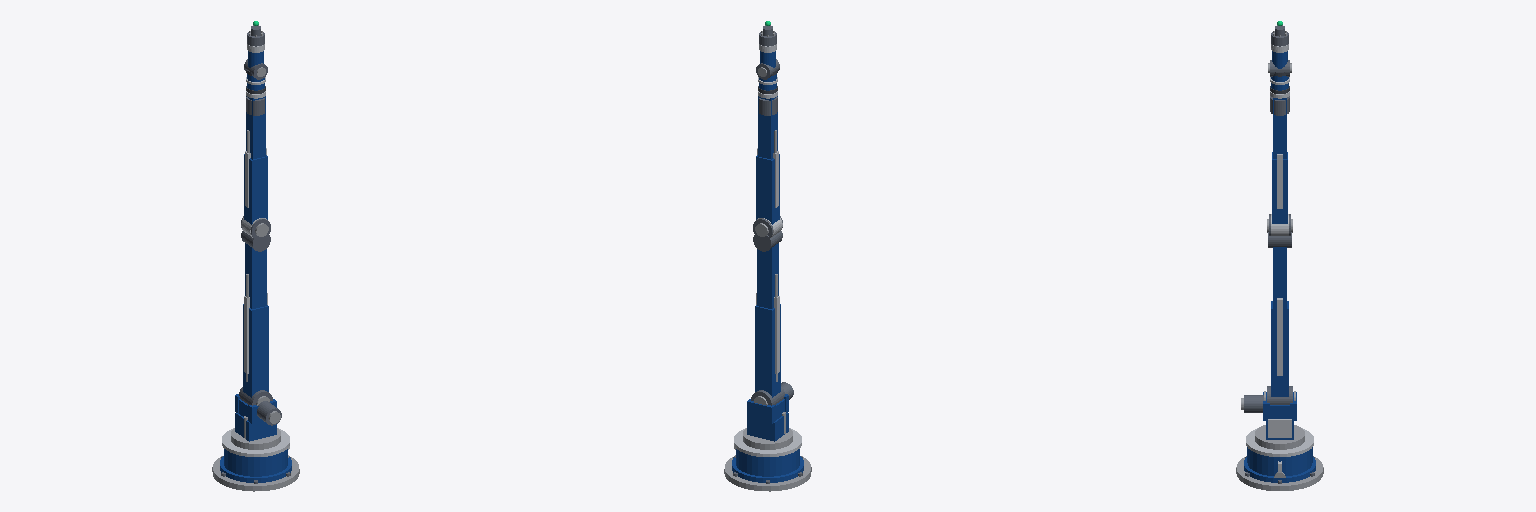
robot.urdf — estun_er6_1450:
<?xml version="1.0" encoding="utf-8"?>
<robot name="estun_er6_1450">
  <!-- ESTUN ER6-1450 — procedurally generated by orolp.robot_library.urdf_builder (payload 6 kg, reach 1450 mm, 6 DOF, repeatability ±0.05 mm). Appearance: 60 primitives in 'industrial' style (primary/accent/metal/dark 4-role palette). No vendor CAD assets. Parameters verified=False. -->
  <link name="base_link">
    <visual>
      <origin xyz="0 0 0.01044" rpy="0 0 0"/>
      <geometry>
        <cylinder radius="0.152914" length="0.02088"/>
      </geometry>
      <material name="base_link_mat_0">
        <color rgba="0.6375 0.6545 0.68 1"/>
      </material>
    </visual>
    <visual>
      <origin xyz="0 0 0.030015" rpy="0 0 0"/>
      <geometry>
        <cylinder radius="0.127809" length="0.01827"/>
      </geometry>
      <material name="base_link_mat_1">
        <color rgba="0.13 0.35 0.62 1"/>
      </material>
    </visual>
    <visual>
      <origin xyz="0 0 0.079605" rpy="0 0 0"/>
      <geometry>
        <cylinder radius="0.114115" length="0.08091"/>
      </geometry>
      <material name="base_link_mat_2">
        <color rgba="0.13 0.35 0.62 1"/>
      </material>
    </visual>
    <visual>
      <origin xyz="0 0 0.123975" rpy="0 0 0"/>
      <geometry>
        <cylinder radius="0.120962" length="0.01305"/>
      </geometry>
      <material name="base_link_mat_3">
        <color rgba="0.75 0.77 0.8 1"/>
      </material>
    </visual>
    <visual>
      <origin xyz="0.102703 0 0.08091" rpy="0 0 0"/>
      <geometry>
        <box size="0.05934 0.013694 0.03393"/>
      </geometry>
      <material name="base_link_mat_4">
        <color rgba="0.75 0.77 0.8 1"/>
      </material>
    </visual>
    <visual>
      <origin xyz="0.104986 0 0.03915" rpy="0 1.570796 0"/>
      <geometry>
        <cylinder radius="0.0194" length="0.034234"/>
      </geometry>
      <material name="base_link_mat_5">
        <color rgba="0.6375 0.6545 0.68 1"/>
      </material>
    </visual>
    <visual>
      <origin xyz="0.130091 0 0.016965" rpy="0 0 0"/>
      <geometry>
        <cylinder radius="0.008559" length="0.02871"/>
      </geometry>
      <material name="base_link_mat_6">
        <color rgba="0.42 0.45 0.5 1"/>
      </material>
    </visual>
    <visual>
      <origin xyz="0.065046 0.112662 0.016965" rpy="0 0 0"/>
      <geometry>
        <cylinder radius="0.008559" length="0.02871"/>
      </geometry>
      <material name="base_link_mat_7">
        <color rgba="0.42 0.45 0.5 1"/>
      </material>
    </visual>
    <visual>
      <origin xyz="-0.065046 0.112662 0.016965" rpy="0 0 0"/>
      <geometry>
        <cylinder radius="0.008559" length="0.02871"/>
      </geometry>
      <material name="base_link_mat_8">
        <color rgba="0.42 0.45 0.5 1"/>
      </material>
    </visual>
    <visual>
      <origin xyz="-0.130091 0 0.016965" rpy="0 0 0"/>
      <geometry>
        <cylinder radius="0.008559" length="0.02871"/>
      </geometry>
      <material name="base_link_mat_9">
        <color rgba="0.42 0.45 0.5 1"/>
      </material>
    </visual>
    <visual>
      <origin xyz="-0.065046 -0.112662 0.016965" rpy="0 0 0"/>
      <geometry>
        <cylinder radius="0.008559" length="0.02871"/>
      </geometry>
      <material name="base_link_mat_10">
        <color rgba="0.42 0.45 0.5 1"/>
      </material>
    </visual>
    <visual>
      <origin xyz="0.065046 -0.112662 0.016965" rpy="0 0 0"/>
      <geometry>
        <cylinder radius="0.008559" length="0.02871"/>
      </geometry>
      <material name="base_link_mat_11">
        <color rgba="0.42 0.45 0.5 1"/>
      </material>
    </visual>
    <collision>
      <origin xyz="0 0 0.06525" rpy="0 0 0"/>
      <geometry>
        <cylinder radius="0.114115" length="0.1305"/>
      </geometry>
    </collision>
  </link>
  <joint name="joint_1" type="revolute">
    <parent link="base_link"/>
    <child link="link_1"/>
    <origin xyz="0 0 0.1305" rpy="0 0 0"/>
    <axis xyz="0 0 1"/>
    <limit lower="-3.141593" upper="3.141593" effort="76" velocity="3.228859"/>
  </joint>
  <link name="link_1">
    <visual>
      <origin xyz="0 0 0.01178" rpy="0 0 0"/>
      <geometry>
        <cylinder radius="0.088347" length="0.023559"/>
      </geometry>
      <material name="link_1_mat_0">
        <color rgba="0.6375 0.6545 0.68 1"/>
      </material>
    </visual>
    <visual>
      <origin xyz="0 0 0.060244" rpy="0 0 0"/>
      <geometry>
        <box size="0.111906 0.095709 0.07337"/>
      </geometry>
      <material name="link_1_mat_1">
        <color rgba="0.13 0.35 0.62 1"/>
      </material>
    </visual>
    <visual>
      <origin xyz="0 0 0.124044" rpy="0 0 0"/>
      <geometry>
        <box size="0.098654 0.082457 0.05423"/>
      </geometry>
      <material name="link_1_mat_2">
        <color rgba="0.13 0.35 0.62 1"/>
      </material>
    </visual>
    <visual>
      <origin xyz="0 0.048591 0.1276" rpy="0 0 0"/>
      <geometry>
        <box size="0.103072 0.025032 0.0638"/>
      </geometry>
      <material name="link_1_mat_3">
        <color rgba="0.13 0.35 0.62 1"/>
      </material>
    </visual>
    <visual>
      <origin xyz="0 -0.048591 0.1276" rpy="0 0 0"/>
      <geometry>
        <box size="0.103072 0.025032 0.0638"/>
      </geometry>
      <material name="link_1_mat_4">
        <color rgba="0.13 0.35 0.62 1"/>
      </material>
    </visual>
    <visual>
      <origin xyz="0 -0.086875 0.13717" rpy="1.570796 0 0"/>
      <geometry>
        <cylinder radius="0.032394" length="0.077304"/>
      </geometry>
      <material name="link_1_mat_5">
        <color rgba="0.42 0.45 0.5 1"/>
      </material>
    </visual>
    <visual>
      <origin xyz="0 -0.129576 0.13717" rpy="1.570796 0 0"/>
      <geometry>
        <cylinder radius="0.022087" length="0.01178"/>
      </geometry>
      <material name="link_1_mat_6">
        <color rgba="0.6375 0.6545 0.68 1"/>
      </material>
    </visual>
    <visual>
      <origin xyz="-0.051536 -0.020614 0.06699" rpy="0 0 0"/>
      <geometry>
        <cylinder radius="0.008098" length="0.07975"/>
      </geometry>
      <material name="link_1_mat_7">
        <color rgba="0.6375 0.6545 0.68 1"/>
      </material>
    </visual>
    <visual>
      <origin xyz="0.053008 0 0.06699" rpy="0 0 0"/>
      <geometry>
        <box size="0.007362 0.085402 0.07018"/>
      </geometry>
      <material name="link_1_mat_8">
        <color rgba="0.75 0.77 0.8 1"/>
      </material>
    </visual>
    <collision>
      <origin xyz="0 0 0.07975" rpy="0 0 0"/>
      <geometry>
        <cylinder radius="0.088347" length="0.1595"/>
      </geometry>
    </collision>
  </link>
  <joint name="joint_2" type="revolute">
    <parent link="link_1"/>
    <child link="link_2"/>
    <origin xyz="0 0 0.1595" rpy="0 0 0"/>
    <axis xyz="0 1 0"/>
    <limit lower="-2.70526" upper="0.610865" effort="76" velocity="3.228859"/>
  </joint>
  <link name="link_2">
    <visual>
      <origin xyz="0 0 0.18009" rpy="0 0 0"/>
      <geometry>
        <box size="0.07215 0.061843 0.36018"/>
      </geometry>
      <material name="link_2_mat_0">
        <color rgba="0.13 0.35 0.62 1"/>
      </material>
    </visual>
    <visual>
      <origin xyz="0 0 0.50025" rpy="0 0 0"/>
      <geometry>
        <box size="0.058898 0.050063 0.3335"/>
      </geometry>
      <material name="link_2_mat_1">
        <color rgba="0.13 0.35 0.62 1"/>
      </material>
    </visual>
    <visual>
      <origin xyz="0 0 0.25346" rpy="0 0 0"/>
      <geometry>
        <box size="0.085402 0.022087 0.29348"/>
      </geometry>
      <material name="link_2_mat_2">
        <color rgba="0.75 0.77 0.8 1"/>
      </material>
    </visual>
    <visual>
      <origin xyz="0 0 0" rpy="1.570796 0 0"/>
      <geometry>
        <cylinder radius="0.042701" length="0.094237"/>
      </geometry>
      <material name="link_2_mat_3">
        <color rgba="0.42 0.45 0.5 1"/>
      </material>
    </visual>
    <visual>
      <origin xyz="0 0.051536 0" rpy="1.570796 0 0"/>
      <geometry>
        <cylinder radius="0.026504" length="0.007362"/>
      </geometry>
      <material name="link_2_mat_4">
        <color rgba="0.6375 0.6545 0.68 1"/>
      </material>
    </visual>
    <visual>
      <origin xyz="0 -0.051536 0" rpy="1.570796 0 0"/>
      <geometry>
        <cylinder radius="0.026504" length="0.007362"/>
      </geometry>
      <material name="link_2_mat_5">
        <color rgba="0.6375 0.6545 0.68 1"/>
      </material>
    </visual>
    <visual>
      <origin xyz="0 0 -0.048024" rpy="0 0 0"/>
      <geometry>
        <box size="0.079512 0.06626 0.10005"/>
      </geometry>
      <material name="link_2_mat_6">
        <color rgba="0.6375 0.6545 0.68 1"/>
      </material>
    </visual>
    <visual>
      <origin xyz="0 0 -0.101384" rpy="0 0 0"/>
      <geometry>
        <cylinder radius="0.042701" length="0.02668"/>
      </geometry>
      <material name="link_2_mat_7">
        <color rgba="0.6375 0.6545 0.68 1"/>
      </material>
    </visual>
    <visual>
      <origin xyz="0 0 0.62031" rpy="1.570796 0 0"/>
      <geometry>
        <cylinder radius="0.036811" length="0.080985"/>
      </geometry>
      <material name="link_2_mat_8">
        <color rgba="0.42 0.45 0.5 1"/>
      </material>
    </visual>
    <visual>
      <origin xyz="0 0 0.667" rpy="1.570796 0 0"/>
      <geometry>
        <cylinder radius="0.041229" length="0.063315"/>
      </geometry>
      <material name="link_2_mat_9">
        <color rgba="0.75 0.77 0.8 1"/>
      </material>
    </visual>
    <visual>
      <origin xyz="-0.033866 0 0.28014" rpy="0 0 0"/>
      <geometry>
        <cylinder radius="0.006626" length="0.41354"/>
      </geometry>
      <material name="link_2_mat_10">
        <color rgba="0.6375 0.6545 0.68 1"/>
      </material>
    </visual>
    <collision>
      <origin xyz="0 0 0.3335" rpy="0 0 0"/>
      <geometry>
        <box size="0.073623 0.060371 0.667"/>
      </geometry>
    </collision>
  </link>
  <joint name="joint_3" type="revolute">
    <parent link="link_2"/>
    <child link="link_3"/>
    <origin xyz="0 0 0.667" rpy="0 0 0"/>
    <axis xyz="0 1 0"/>
    <limit lower="-2.268928" upper="2.687807" effort="76" velocity="3.228859"/>
  </joint>
  <link name="link_3">
    <visual>
      <origin xyz="0 0 0.13572" rpy="0 0 0"/>
      <geometry>
        <box size="0.067733 0.057426 0.27144"/>
      </geometry>
      <material name="link_3_mat_0">
        <color rgba="0.13 0.35 0.62 1"/>
      </material>
    </visual>
    <visual>
      <origin xyz="0 0 0.38628" rpy="0 0 0"/>
      <geometry>
        <box size="0.054481 0.045646 0.27144"/>
      </geometry>
      <material name="link_3_mat_1">
        <color rgba="0.13 0.35 0.62 1"/>
      </material>
    </visual>
    <visual>
      <origin xyz="0 0 0" rpy="1.570796 0 0"/>
      <geometry>
        <cylinder radius="0.039756" length="0.07804"/>
      </geometry>
      <material name="link_3_mat_2">
        <color rgba="0.42 0.45 0.5 1"/>
      </material>
    </visual>
    <visual>
      <origin xyz="0 0.042701 0" rpy="1.570796 0 0"/>
      <geometry>
        <cylinder radius="0.025032" length="0.007362"/>
      </geometry>
      <material name="link_3_mat_3">
        <color rgba="0.6375 0.6545 0.68 1"/>
      </material>
    </visual>
    <visual>
      <origin xyz="0 -0.042701 0" rpy="1.570796 0 0"/>
      <geometry>
        <cylinder radius="0.025032" length="0.007362"/>
      </geometry>
      <material name="link_3_mat_4">
        <color rgba="0.6375 0.6545 0.68 1"/>
      </material>
    </visual>
    <visual>
      <origin xyz="0 0 0.18792" rpy="0 0 0"/>
      <geometry>
        <box size="0.079512 0.020614 0.2088"/>
      </geometry>
      <material name="link_3_mat_5">
        <color rgba="0.75 0.77 0.8 1"/>
      </material>
    </visual>
    <visual>
      <origin xyz="0 0 0.4698" rpy="0 0 0"/>
      <geometry>
        <cylinder radius="0.033866" length="0.057426"/>
      </geometry>
      <material name="link_3_mat_6">
        <color rgba="0.42 0.45 0.5 1"/>
      </material>
    </visual>
    <visual>
      <origin xyz="0 0 0.51678" rpy="0 0 0"/>
      <geometry>
        <cylinder radius="0.036811" length="0.014725"/>
      </geometry>
      <material name="link_3_mat_7">
        <color rgba="0.75 0.77 0.8 1"/>
      </material>
    </visual>
    <visual>
      <origin xyz="-0.030921 0 0.22968" rpy="0 0 0"/>
      <geometry>
        <cylinder radius="0.00589" length="0.29232"/>
      </geometry>
      <material name="link_3_mat_8">
        <color rgba="0.6375 0.6545 0.68 1"/>
      </material>
    </visual>
    <collision>
      <origin xyz="0 0 0.261" rpy="0 0 0"/>
      <geometry>
        <box size="0.069205 0.056748 0.522"/>
      </geometry>
    </collision>
  </link>
  <joint name="joint_4" type="revolute">
    <parent link="link_3"/>
    <child link="link_4"/>
    <origin xyz="0 0 0.522" rpy="0 0 0"/>
    <axis xyz="0 0 1"/>
    <limit lower="-6.108652" upper="6.108652" effort="76" velocity="5.759587"/>
  </joint>
  <link name="link_4">
    <visual>
      <origin xyz="0 0 0.0435" rpy="0 0 0"/>
      <geometry>
        <cylinder radius="0.030921" length="0.08178"/>
      </geometry>
      <material name="link_4_mat_0">
        <color rgba="0.13 0.35 0.62 1"/>
      </material>
    </visual>
    <visual>
      <origin xyz="0 0 0.0087" rpy="0 0 0"/>
      <geometry>
        <cylinder radius="0.033866" length="0.01392"/>
      </geometry>
      <material name="link_4_mat_1">
        <color rgba="0.3024 0.324 0.36 1"/>
      </material>
    </visual>
    <visual>
      <origin xyz="0 0 0.0783" rpy="0 0 0"/>
      <geometry>
        <cylinder radius="0.033866" length="0.01392"/>
      </geometry>
      <material name="link_4_mat_2">
        <color rgba="0.3024 0.324 0.36 1"/>
      </material>
    </visual>
    <visual>
      <origin xyz="0 0 0.0435" rpy="0 0 0"/>
      <geometry>
        <cylinder radius="0.035339" length="0.0087"/>
      </geometry>
      <material name="link_4_mat_3">
        <color rgba="0.75 0.77 0.8 1"/>
      </material>
    </visual>
    <collision>
      <origin xyz="0 0 0.0435" rpy="0 0 0"/>
      <geometry>
        <cylinder radius="0.032394" length="0.087"/>
      </geometry>
    </collision>
  </link>
  <joint name="joint_5" type="revolute">
    <parent link="link_4"/>
    <child link="link_5"/>
    <origin xyz="0 0 0.087" rpy="0 0 0"/>
    <axis xyz="0 1 0"/>
    <limit lower="-2.268928" upper="2.268928" effort="76" velocity="5.759587"/>
  </joint>
  <link name="link_5">
    <visual>
      <origin xyz="0 0 0" rpy="1.570796 0 0"/>
      <geometry>
        <cylinder radius="0.029449" length="0.067733"/>
      </geometry>
      <material name="link_5_mat_0">
        <color rgba="0.42 0.45 0.5 1"/>
      </material>
    </visual>
    <visual>
      <origin xyz="0 0 0.03915" rpy="0 0 0"/>
      <geometry>
        <cylinder radius="0.027977" length="0.07482"/>
      </geometry>
      <material name="link_5_mat_1">
        <color rgba="0.13 0.35 0.62 1"/>
      </material>
    </visual>
    <visual>
      <origin xyz="0 0 0.08178" rpy="0 0 0"/>
      <geometry>
        <cylinder radius="0.030921" length="0.01392"/>
      </geometry>
      <material name="link_5_mat_2">
        <color rgba="0.75 0.77 0.8 1"/>
      </material>
    </visual>
    <visual>
      <origin xyz="0 0.036811 0" rpy="1.570796 0 0"/>
      <geometry>
        <cylinder radius="0.017669" length="0.007362"/>
      </geometry>
      <material name="link_5_mat_3">
        <color rgba="0.6375 0.6545 0.68 1"/>
      </material>
    </visual>
    <visual>
      <origin xyz="0 -0.036811 0" rpy="1.570796 0 0"/>
      <geometry>
        <cylinder radius="0.017669" length="0.007362"/>
      </geometry>
      <material name="link_5_mat_4">
        <color rgba="0.6375 0.6545 0.68 1"/>
      </material>
    </visual>
    <collision>
      <origin xyz="0 0 0.0435" rpy="0 0 0"/>
      <geometry>
        <box size="0.062579 0.051315 0.087"/>
      </geometry>
    </collision>
  </link>
  <joint name="joint_6" type="revolute">
    <parent link="link_5"/>
    <child link="tool0"/>
    <origin xyz="0 0 0.087" rpy="0 0 0"/>
    <axis xyz="0 0 1"/>
    <limit lower="-6.108652" upper="6.108652" effort="76" velocity="10.733775"/>
  </joint>
  <link name="tool0">
    <visual>
      <origin xyz="0 0 0.02262" rpy="0 0 0"/>
      <geometry>
        <cylinder radius="0.030921" length="0.04524"/>
      </geometry>
      <material name="tool0_mat_0">
        <color rgba="0.42 0.45 0.5 1"/>
      </material>
    </visual>
    <visual>
      <origin xyz="0 0 0.05829" rpy="0 0 0"/>
      <geometry>
        <cylinder radius="0.019171" length="0.0261"/>
      </geometry>
      <material name="tool0_mat_1">
        <color rgba="0.42 0.45 0.5 1"/>
      </material>
    </visual>
    <visual>
      <origin xyz="0 0 0.00609" rpy="0 0 0"/>
      <geometry>
        <cylinder radius="0.032777" length="0.01218"/>
      </geometry>
      <material name="tool0_mat_2">
        <color rgba="0.75 0.77 0.8 1"/>
      </material>
    </visual>
    <visual>
      <origin xyz="0.024119 0 0.0435" rpy="0 0 0"/>
      <geometry>
        <cylinder radius="0.002783" length="0.01914"/>
      </geometry>
      <material name="tool0_mat_3">
        <color rgba="0.6375 0.6545 0.68 1"/>
      </material>
    </visual>
    <visual>
      <origin xyz="0.012059 0.020887 0.0435" rpy="0 0 0"/>
      <geometry>
        <cylinder radius="0.002783" length="0.01914"/>
      </geometry>
      <material name="tool0_mat_4">
        <color rgba="0.6375 0.6545 0.68 1"/>
      </material>
    </visual>
    <visual>
      <origin xyz="-0.012059 0.020887 0.0435" rpy="0 0 0"/>
      <geometry>
        <cylinder radius="0.002783" length="0.01914"/>
      </geometry>
      <material name="tool0_mat_5">
        <color rgba="0.6375 0.6545 0.68 1"/>
      </material>
    </visual>
    <visual>
      <origin xyz="-0.024119 0 0.0435" rpy="0 0 0"/>
      <geometry>
        <cylinder radius="0.002783" length="0.01914"/>
      </geometry>
      <material name="tool0_mat_6">
        <color rgba="0.6375 0.6545 0.68 1"/>
      </material>
    </visual>
    <visual>
      <origin xyz="-0.012059 -0.020887 0.0435" rpy="0 0 0"/>
      <geometry>
        <cylinder radius="0.002783" length="0.01914"/>
      </geometry>
      <material name="tool0_mat_7">
        <color rgba="0.6375 0.6545 0.68 1"/>
      </material>
    </visual>
    <visual>
      <origin xyz="0.012059 -0.020887 0.0435" rpy="0 0 0"/>
      <geometry>
        <cylinder radius="0.002783" length="0.01914"/>
      </geometry>
      <material name="tool0_mat_8">
        <color rgba="0.6375 0.6545 0.68 1"/>
      </material>
    </visual>
    <collision>
      <origin xyz="0 0 0.0435" rpy="0 0 0"/>
      <geometry>
        <cylinder radius="0.030921" length="0.087"/>
      </geometry>
    </collision>
  </link>
  <link name="tcp">
    <visual>
      <origin xyz="0 0 0" rpy="0 0 0"/>
      <geometry>
        <sphere radius="0.010513"/>
      </geometry>
      <material name="tcp_mat">
        <color rgba="0.15 0.85 0.55 1"/>
      </material>
    </visual>
  </link>
  <joint name="tcp_joint" type="fixed">
    <parent link="tool0"/>
    <child link="tcp"/>
    <origin xyz="0 0 0.087" rpy="0 0 0"/>
  </joint>
</robot>

--- Facts derived from the render (not from the file) ---
The picture shows the robot from 3 angles, left to right: view 1: azimuth 30°, elevation 25°; view 2: azimuth 150°, elevation 25°; view 3: azimuth 270°, elevation 25°; orthographic projection.
Model estun_er6_1450 with 8 links and 7 joints (6 revolute, 1 fixed), rooted at base_link, posed every joint at zero.
Links seen in each view (by area): view 1: link_2, base_link, link_3, link_1; view 2: link_2, base_link, link_3, link_1; view 3: base_link, link_2, link_3, link_1.
Link boxes in pixels (left/top/right/bottom): link_2: left=239, top=218, right=272, bottom=405; base_link: left=212, top=428, right=299, bottom=491; link_3: left=241, top=91, right=270, bottom=237; link_1: left=231, top=394, right=281, bottom=449; link_2: left=751, top=218, right=784, bottom=405; base_link: left=724, top=428, right=811, bottom=491; link_3: left=753, top=91, right=782, bottom=237; link_1: left=743, top=382, right=793, bottom=449; base_link: left=1236, top=428, right=1323, bottom=490; link_2: left=1264, top=214, right=1295, bottom=404; link_3: left=1267, top=91, right=1292, bottom=235; link_1: left=1241, top=392, right=1304, bottom=449.
Bounding box of the posed robot: 0.3058 × 0.3058 × 1.75 m (x, y, z).
Geometry: primitives only (box / cylinder / sphere), no mesh files.
